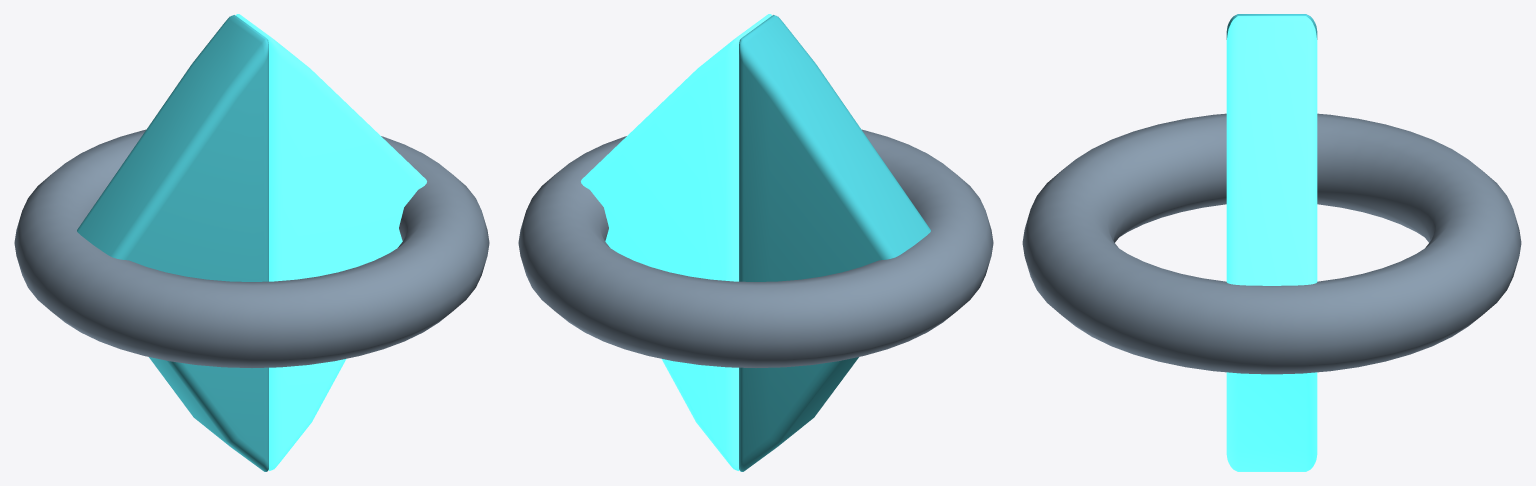
File: ring_v7.glb
3 views of the same model, side by side, from view 1: azimuth 30°, elevation 25°; view 2: azimuth 150°, elevation 25°; view 3: azimuth 270°, elevation 25° (orthographic). The views are drawn at different scales.
Parts seen in each view (by area): view 1: SPLIT_RING_PRIMARY, CURSED_HALF_ACCENT, BLESSED_HALF_EMISSIVE; view 2: SPLIT_RING_PRIMARY, CURSED_HALF_ACCENT, BLESSED_HALF_EMISSIVE; view 3: SPLIT_RING_PRIMARY, BLESSED_HALF_EMISSIVE.
Part boxes in pixels (bbox=[...]): SPLIT_RING_PRIMARY: bbox=[14, 129, 489, 367]; CURSED_HALF_ACCENT: bbox=[77, 15, 268, 471]; BLESSED_HALF_EMISSIVE: bbox=[236, 14, 426, 470]; SPLIT_RING_PRIMARY: bbox=[518, 129, 993, 367]; CURSED_HALF_ACCENT: bbox=[739, 15, 930, 471]; BLESSED_HALF_EMISSIVE: bbox=[581, 14, 771, 470]; SPLIT_RING_PRIMARY: bbox=[1022, 113, 1521, 374]; BLESSED_HALF_EMISSIVE: bbox=[1226, 16, 1317, 471].
Bounding box in the file's own units: 1.76 × 1.77 × 1.76.
